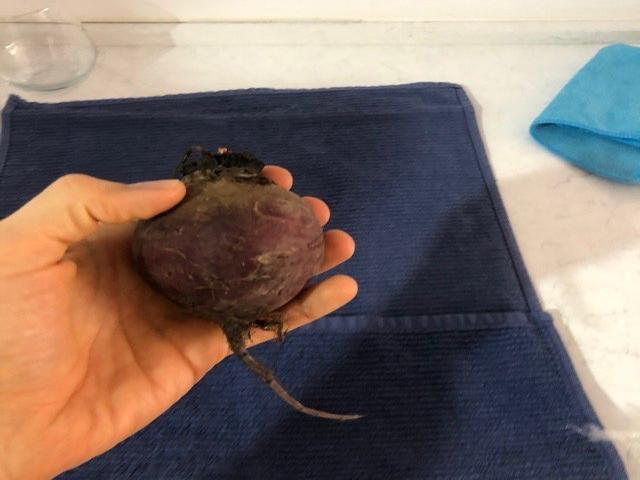beet: (129, 147, 366, 420)
